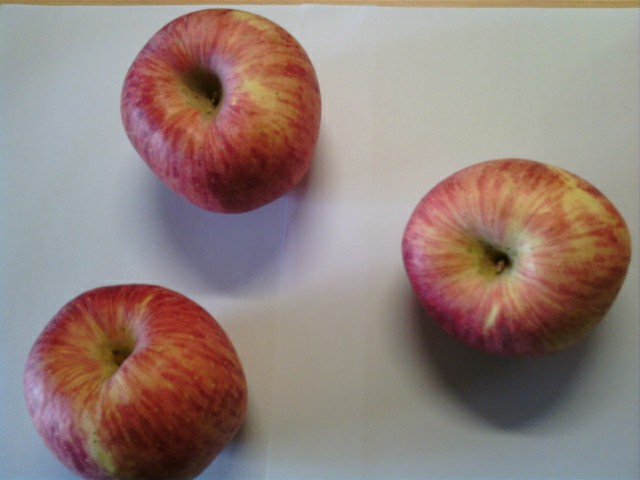normal_apple: (403, 157, 634, 360), (23, 281, 248, 480), (122, 7, 323, 215)
